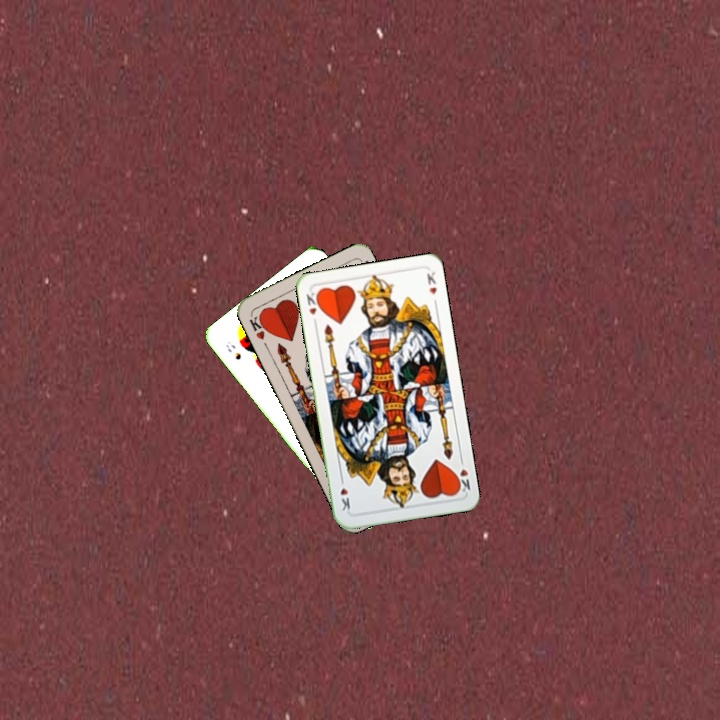HK: (302, 288, 323, 328), (245, 310, 271, 342), (451, 464, 473, 496)
S8: (222, 337, 244, 363)
